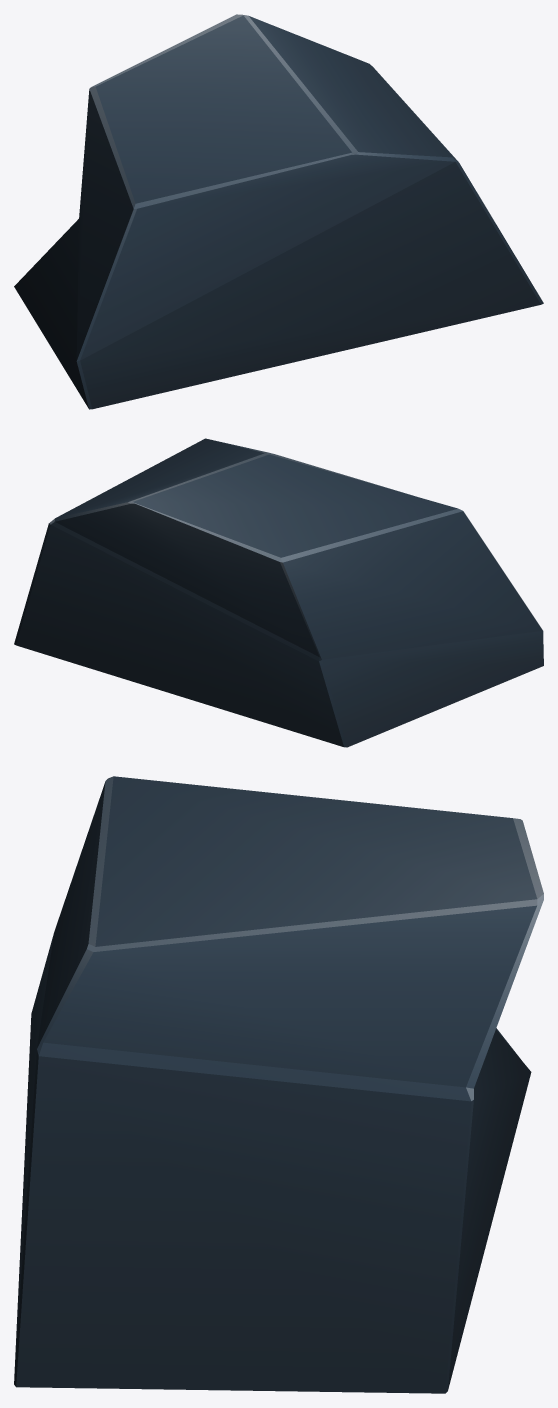
File: Rock_8.fbx
The picture shows the model from 3 angles, top to bottom: view 1: azimuth 30°, elevation 25°; view 2: azimuth 150°, elevation 25°; view 3: azimuth 270°, elevation 25°; orthographic projection. The views are drawn at different scales.
Visible parts, largest first — view 1: Rock_8; view 2: Rock_8; view 3: Rock_8.
Part boxes in pixels (x1,y1,x2,y2): Rock_8: (14,14,543,409); Rock_8: (14,438,543,747); Rock_8: (14,776,543,1393).
Bounding box in the file's own units: 140 × 61.68 × 81.04.
